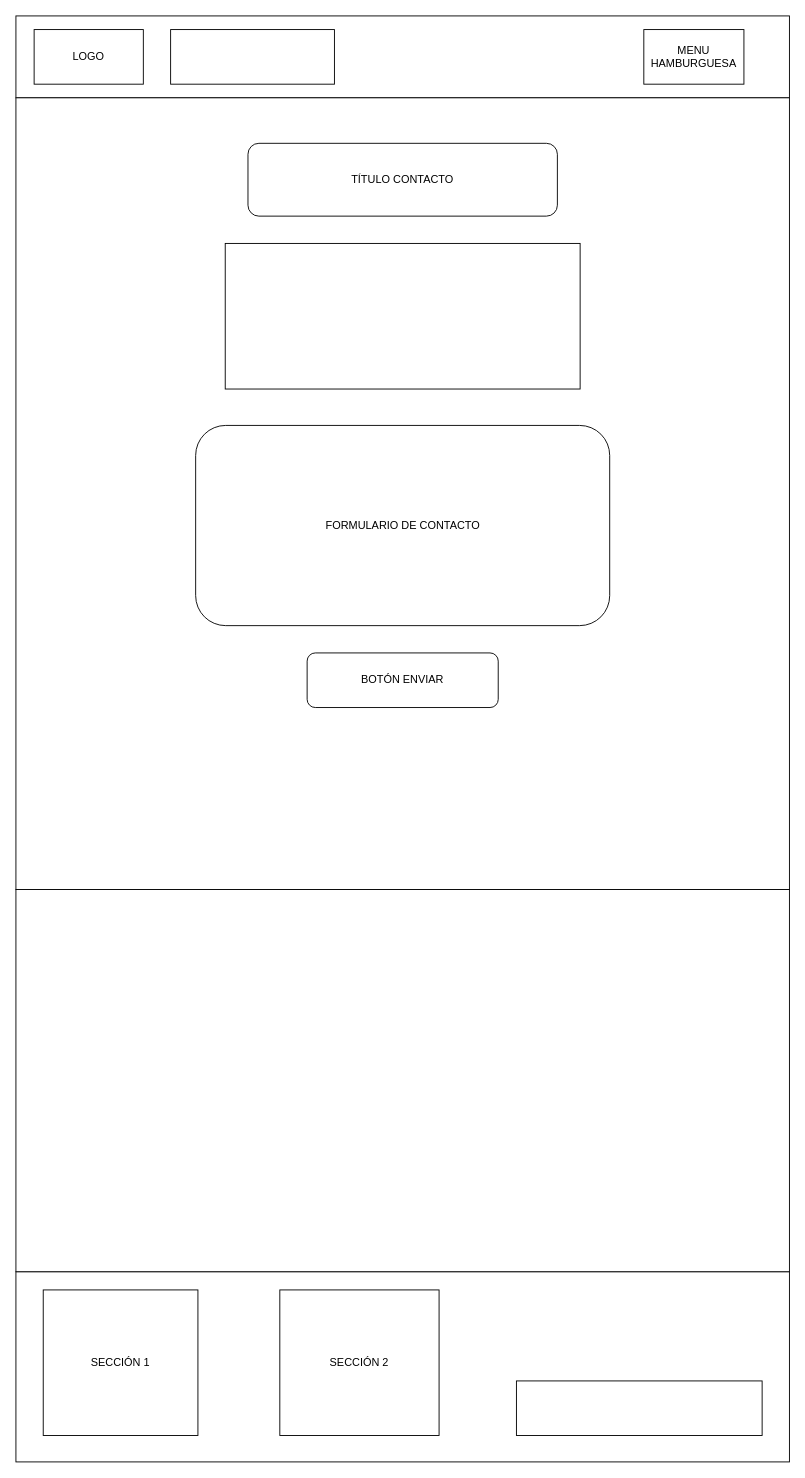
Some shapes in this 805 by 1478 pixel diagram are drawn without their labels. The box of each missing label's shape, as (x1, y1, x2, y2) in pixels:
INFO EXTRA: (516, 1380, 762, 1436)
MAPA GOOGLE MAPS: (15, 889, 789, 1272)
NOMBRE DE EMPRESA: (170, 29, 334, 84)
TEXTO: (224, 243, 580, 389)
